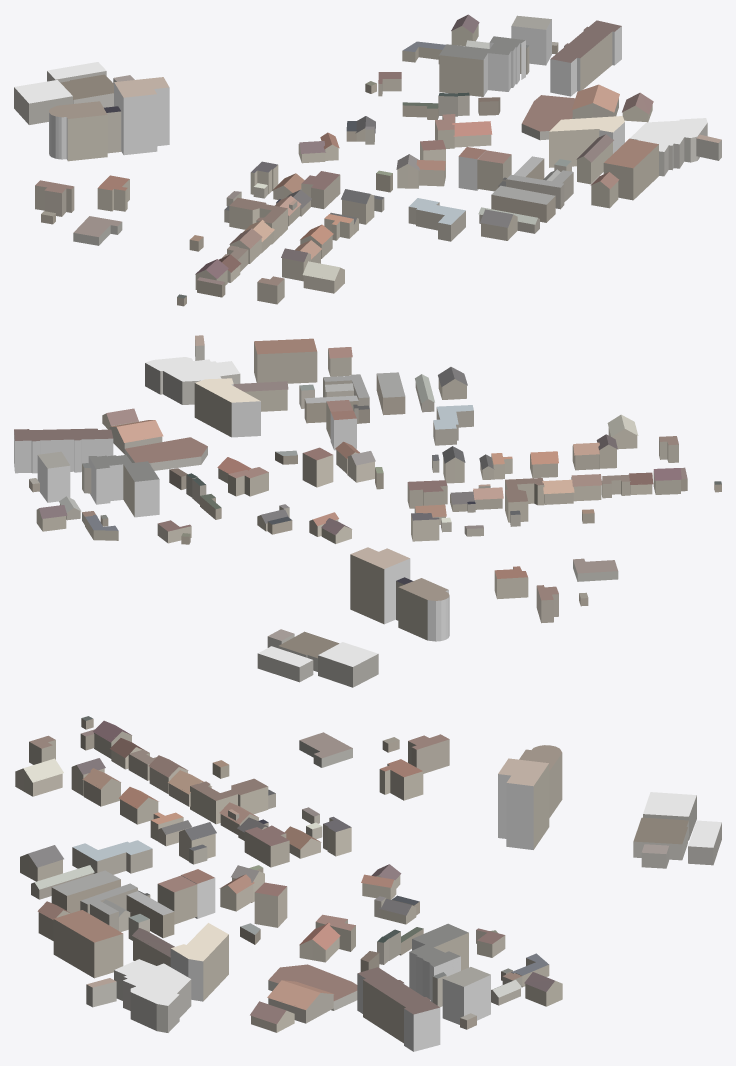
The picture shows the model from 3 angles, top to bottom: view 1: azimuth 30°, elevation 25°; view 2: azimuth 150°, elevation 25°; view 3: azimuth 270°, elevation 25°; orthographic projection. The views are drawn at different scales.
Parts seen in each view (by area): view 1: tuile; view 2: tuile; view 3: tuile.
Boxes of the visible parts, <box> form: tuile: <box>14,14,721,306</box>; tuile: <box>14,335,721,687</box>; tuile: <box>15,716,721,1051</box>.
Size of the model in its own units: 266 by 30.72 by 248.
